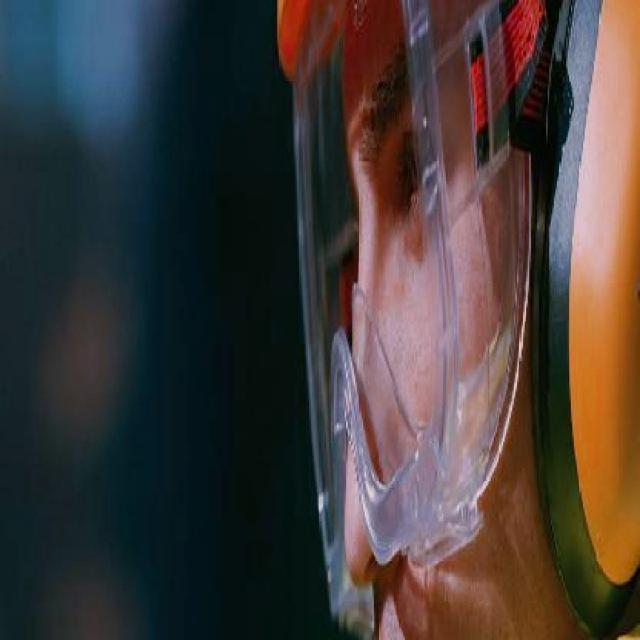glasses: (291, 0, 535, 606)
